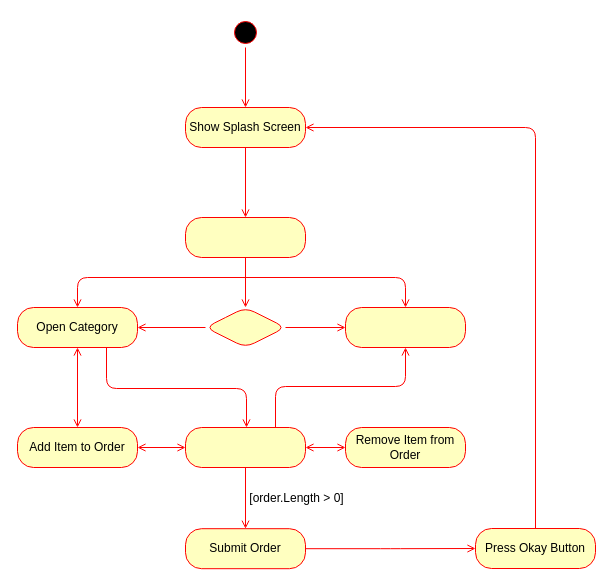
Image size: 613x587. Some labels were removed from this diagram. Each missing label, with the centre of its shape:
"Open NavigationDrawer" goes at (x=405, y=327).
"Open Order" goes at (x=245, y=447).
"Switch to HomeScreen" goes at (x=245, y=237).
